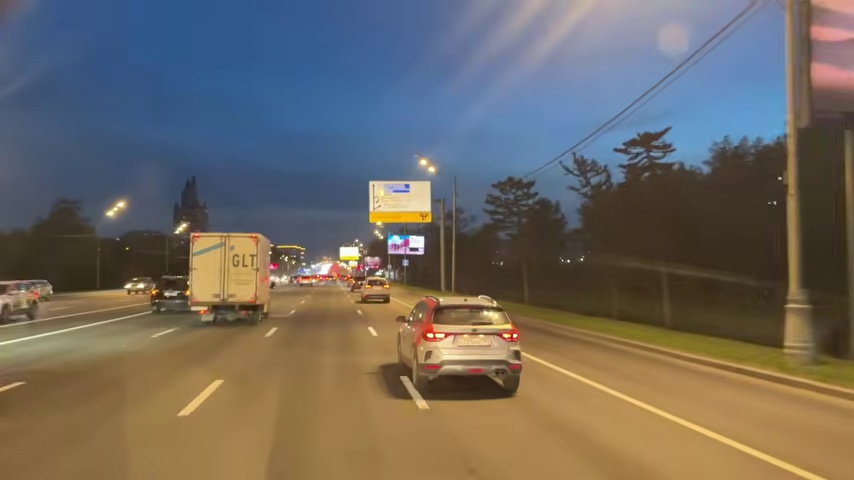acesa: (105, 197, 129, 220), (417, 156, 438, 175)
